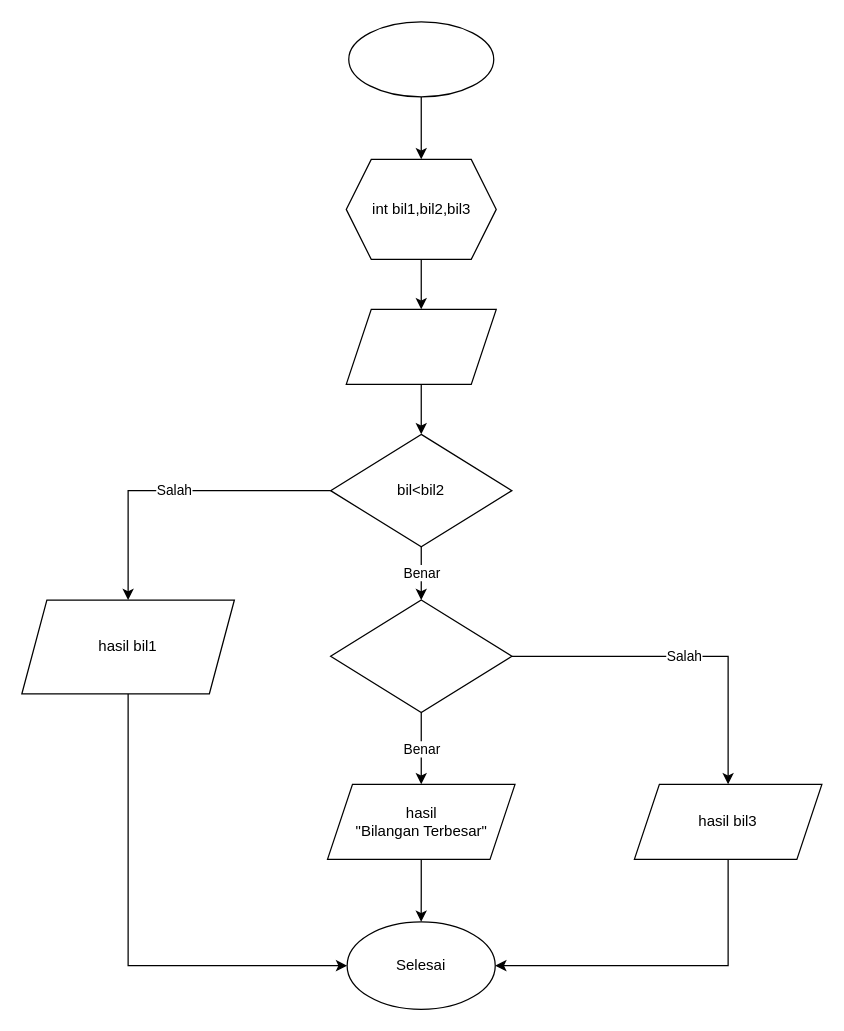
The diagram is 844 pixels wide and 1031 high, and some of its shapes have lost their labels. Here are the shapes that lost their labels. From the top down, the centre of each, then its label:
the point at 421,59: Mulai
the point at 420,346: input bil1 = 28 input bil2 = 54 input bil3 =15
the point at 420,655: bil2>bil3
